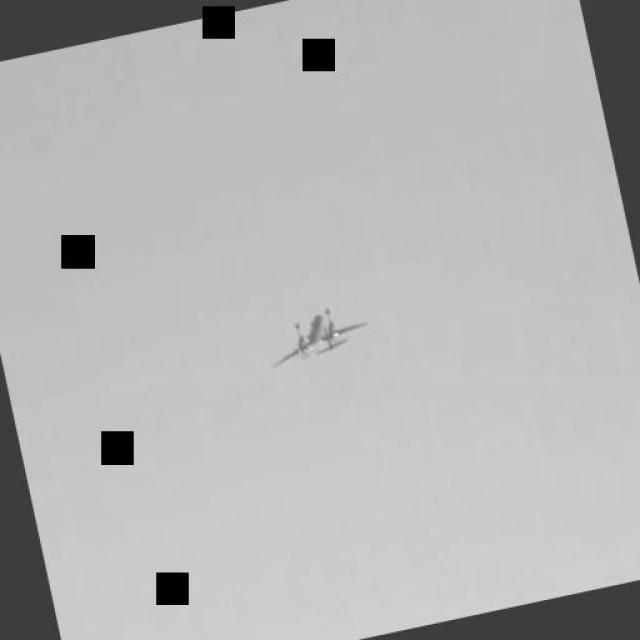aeroplane: (266, 311, 373, 371)
